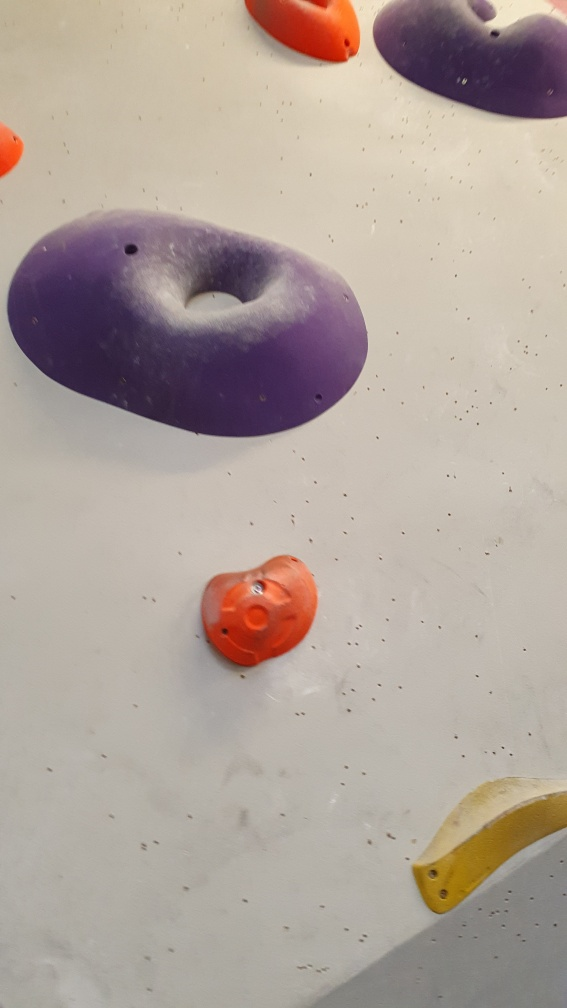Pocket: (5, 207, 372, 437), (243, 1, 365, 67)
